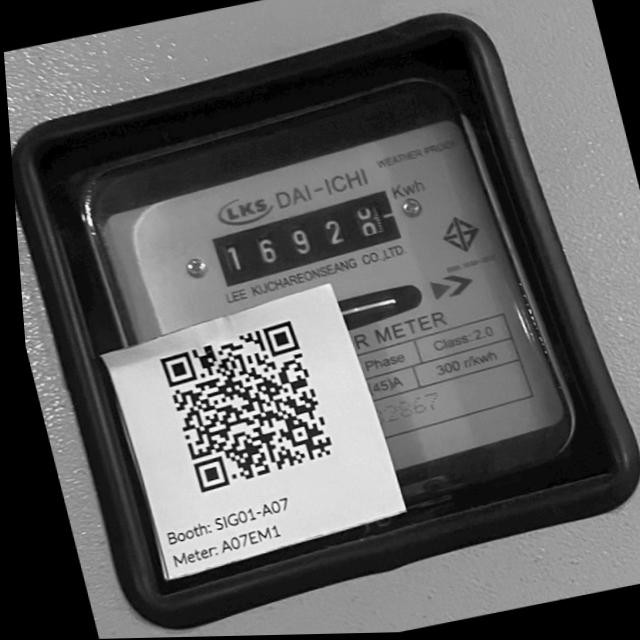qr_code: (155, 312, 342, 497)
